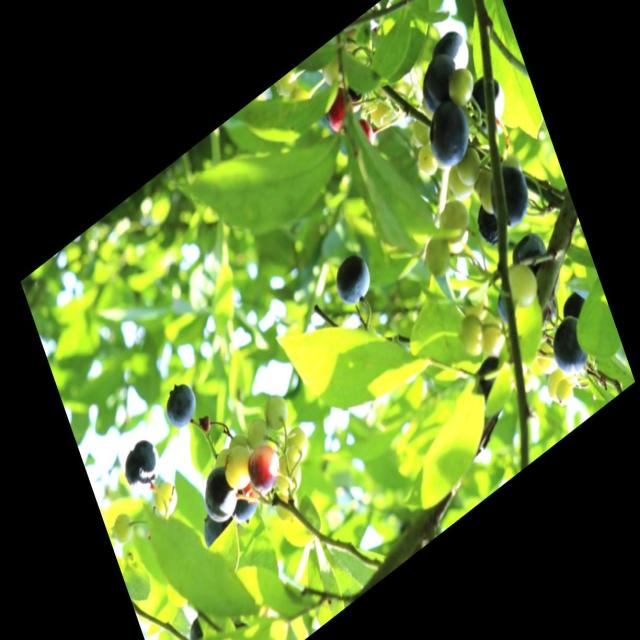blueberry: (420, 90, 478, 176), (480, 150, 535, 231), (544, 308, 595, 384), (196, 456, 243, 531), (328, 244, 378, 314), (414, 46, 464, 114), (425, 19, 474, 88), (118, 430, 165, 500), (157, 370, 203, 440), (507, 224, 552, 290), (227, 483, 262, 530)
blueberry-halfripe: (319, 79, 362, 139), (241, 438, 283, 499), (353, 110, 376, 154)
blueberry-unripe: (436, 195, 472, 250), (420, 229, 455, 285), (271, 449, 305, 502), (222, 439, 254, 493), (280, 419, 313, 470), (456, 308, 488, 360), (366, 84, 398, 136), (543, 363, 575, 410), (107, 505, 138, 552), (530, 331, 560, 379), (444, 159, 472, 207), (260, 387, 290, 431), (454, 150, 484, 192), (478, 320, 507, 362), (412, 142, 440, 183), (245, 413, 272, 454), (408, 116, 436, 154), (151, 478, 177, 518)
